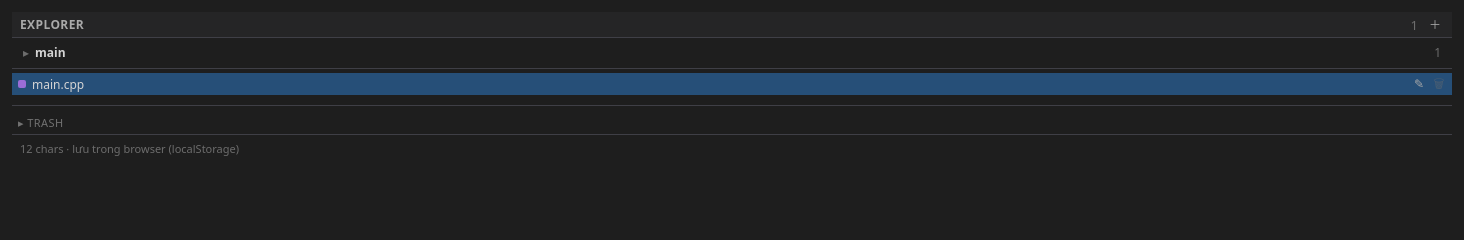
Scenario: renaming a project › refuses a name that would break a path, and says why
Click the button with aria-label "Đổi project" at (50, 52), box x1=16 y1=40 x2=1448 y2=64
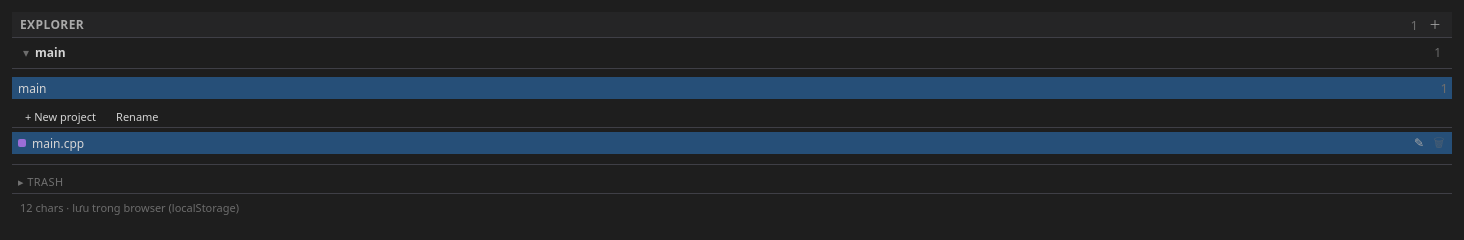
Click the button "Rename" at (137, 116), box x1=109 y1=107 x2=166 y2=125
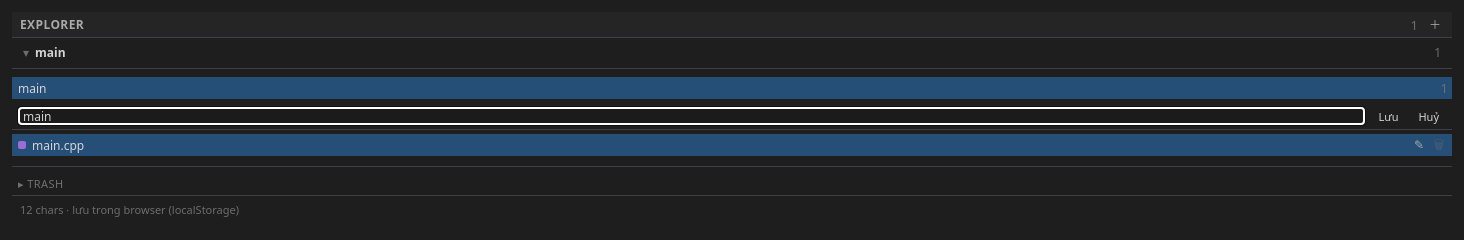
Replace the text in the field named "Project name" with "a/b" at (692, 116), box x1=18 y1=107 x2=1366 y2=125
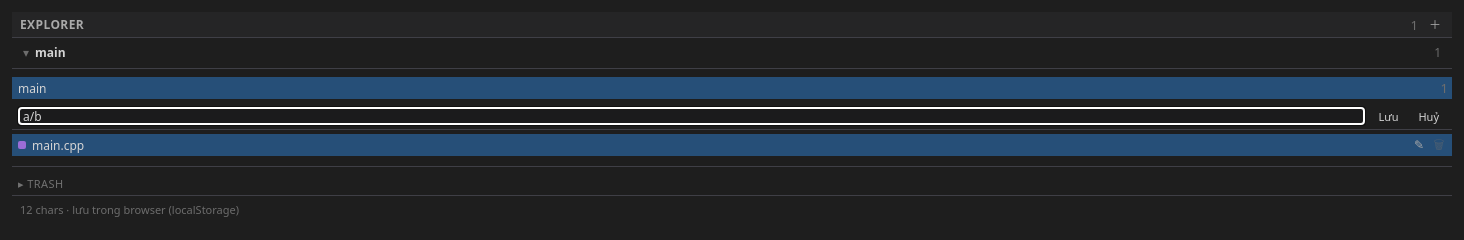
Click the button "Lưu" at (1388, 116), box x1=1372 y1=107 x2=1406 y2=125
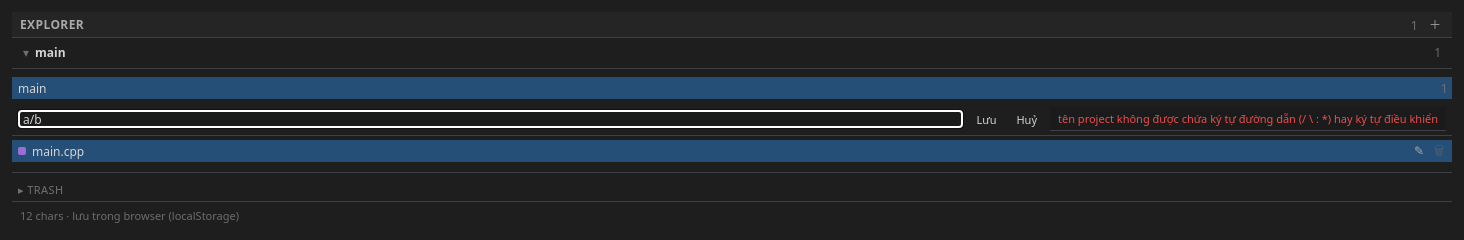
Expected: the text "main" is shown, x1=35 y1=44 x2=66 y2=60
Expected: the text "không được chứa ký tự đường dẫn" is shown, x1=1058 y1=111 x2=1438 y2=126
